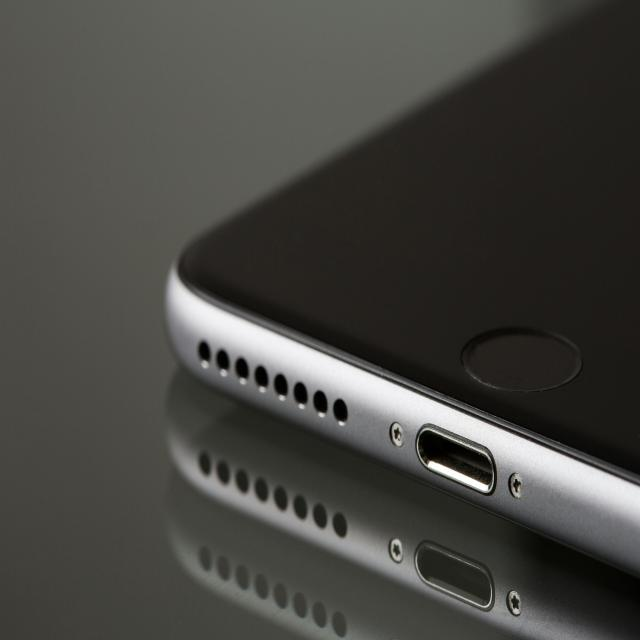Mobile: (58, 2, 640, 574)
